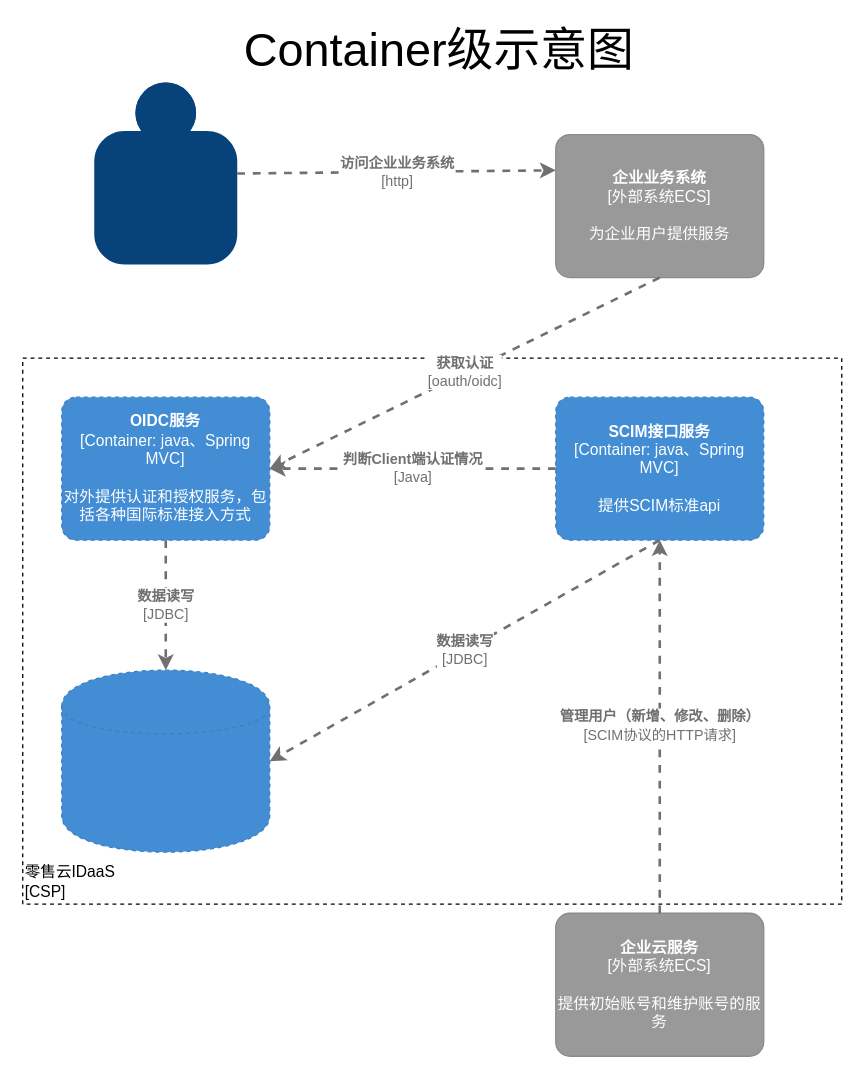
Some shapes in this 864 by 1079 pixel diagram are drawn without their labels. Each missing label, with the centre of its shape:
"Database [Container: MySQL JNOS Schema] 用户数据" goes at point (165, 760).
"企业用户 [CSU]" goes at point (165, 173).
